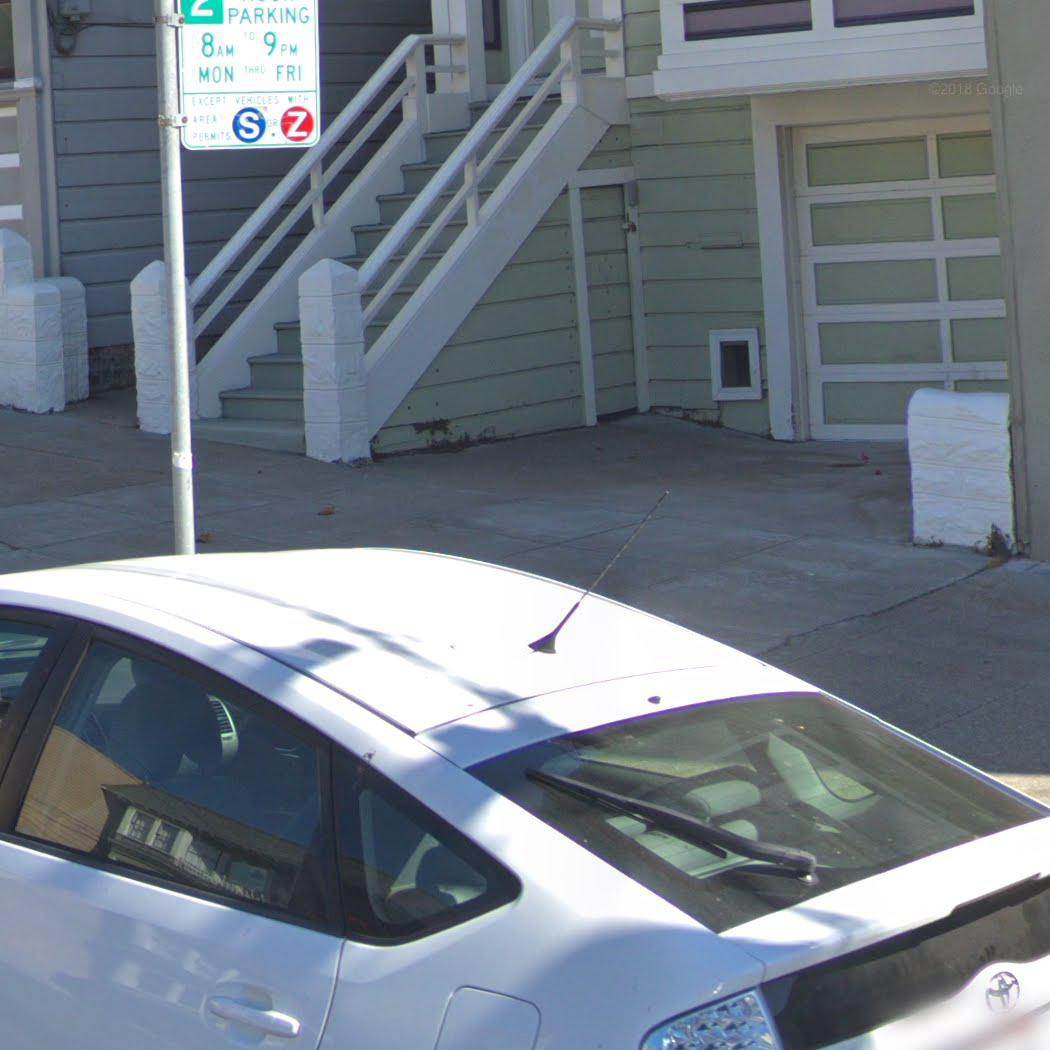2 Hour Parking: (175, 0, 326, 152)
